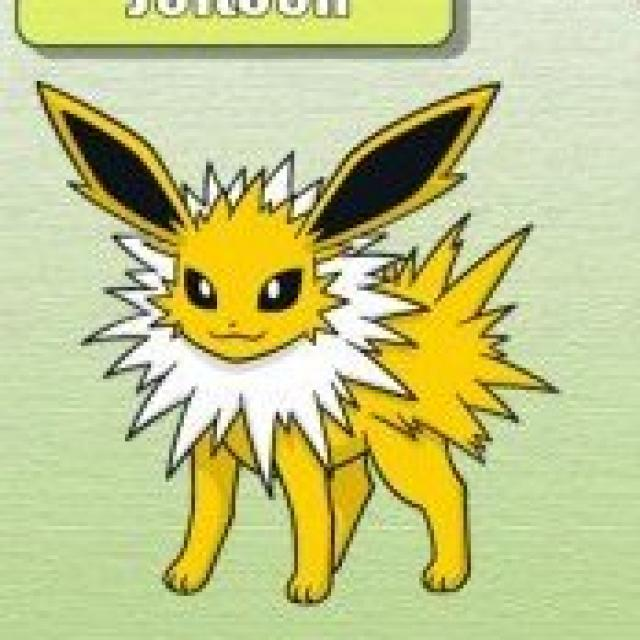Jolteon: (85, 138, 502, 597)
